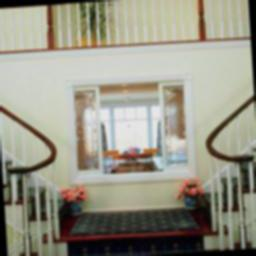Escaleras: (18, 159, 256, 256), (3, 106, 66, 238), (200, 105, 256, 227)
Matera: (58, 185, 91, 216), (176, 180, 202, 211)
